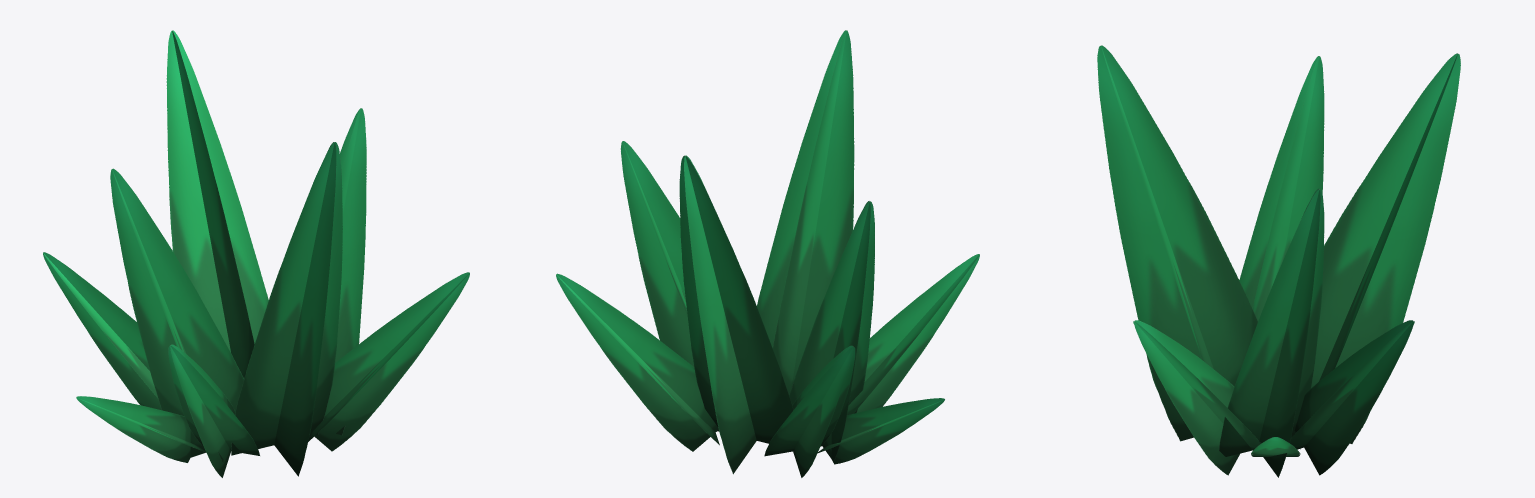
Rendered from F_W_O_plants_003.fbx.
3 views of the same model, side by side, from view 1: azimuth 30°, elevation 25°; view 2: azimuth 150°, elevation 25°; view 3: azimuth 270°, elevation 25° (orthographic). The views are drawn at different scales.
Visible parts, largest first — view 1: F_W_O_plants_003; view 2: F_W_O_plants_003; view 3: F_W_O_plants_003.
Part boxes in pixels (x1,y1,x2,y2): F_W_O_plants_003: [43, 30, 469, 477]; F_W_O_plants_003: [556, 30, 979, 477]; F_W_O_plants_003: [1097, 45, 1460, 477].
Size of the model in its own units: 3.57 by 3.47 by 3.57.
